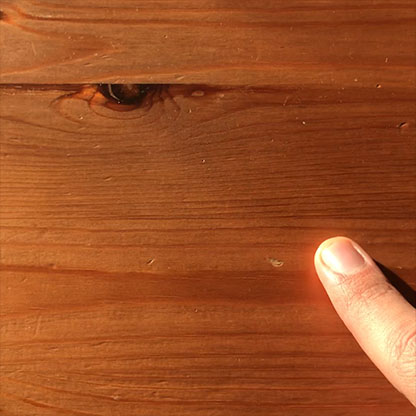fingertip: (300, 224, 382, 296)
